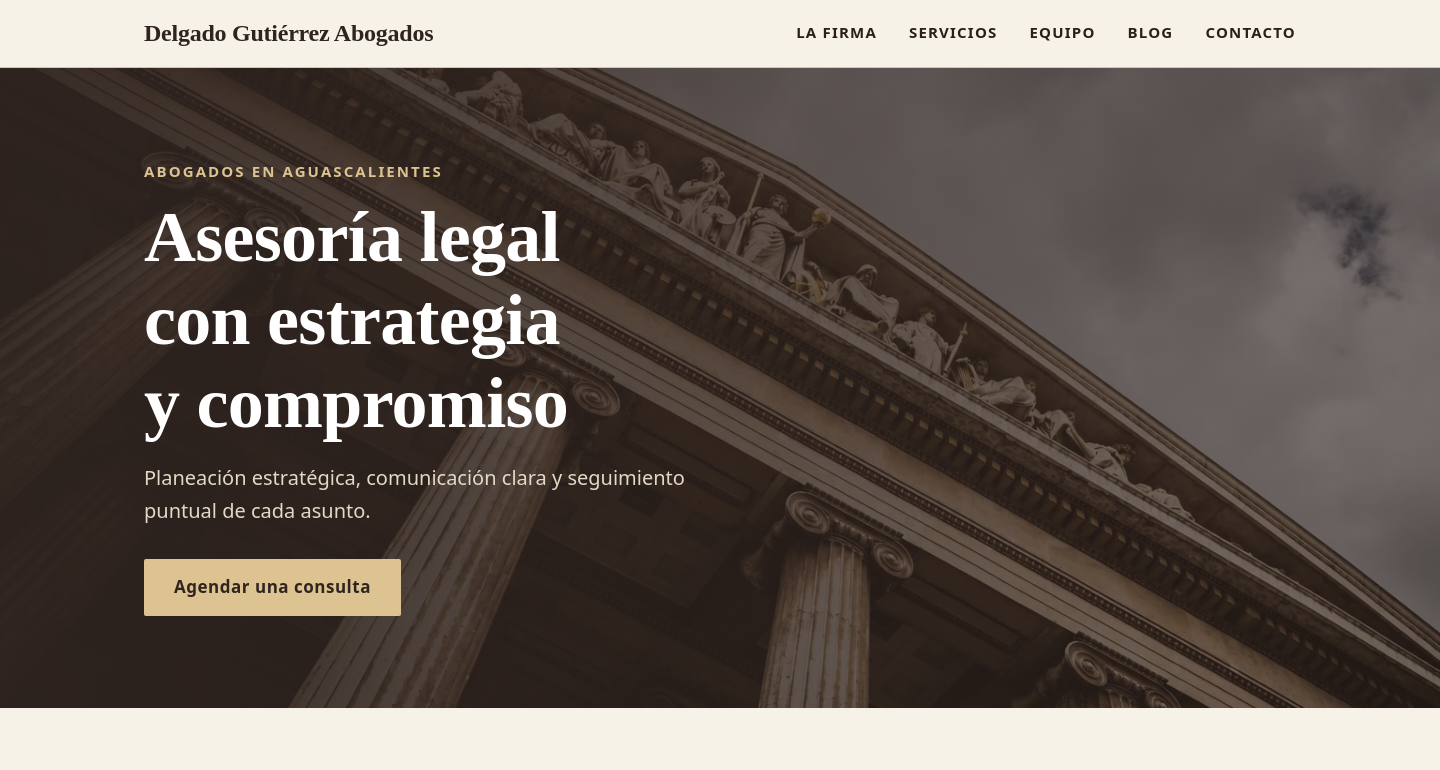
Test case: scrolling between pages › scrolls to the top when the visitor goes to another page
expect the heading "Asesoría legal con estrategia y compromiso" is shown: met, box [144,197,568,443]
Click the link "Equipo": (1063, 32) [1030,22,1096,42]
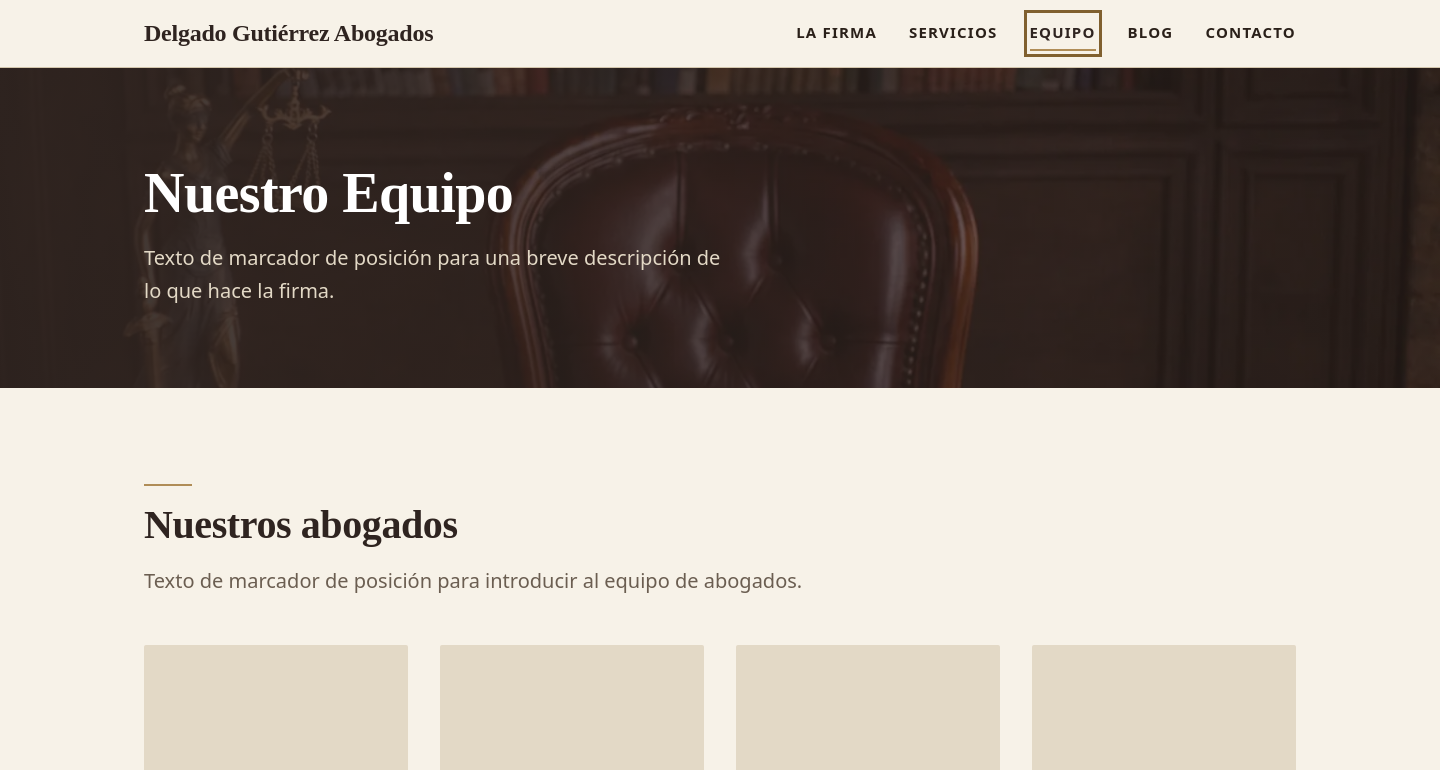
expect the heading "Nuestro Equipo" is shown: met, box [144,162,513,224]
